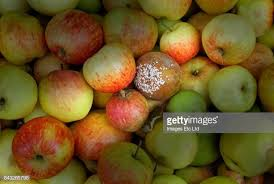apple: (44, 12, 110, 60), (12, 120, 75, 169), (39, 70, 94, 120), (203, 69, 262, 115), (206, 15, 256, 65), (75, 115, 133, 158), (223, 125, 271, 176), (97, 143, 160, 181), (84, 42, 133, 89), (104, 94, 154, 134), (149, 123, 197, 164), (4, 15, 46, 61), (117, 11, 162, 51), (162, 22, 205, 62)
damaged_apple: (133, 50, 181, 102)
